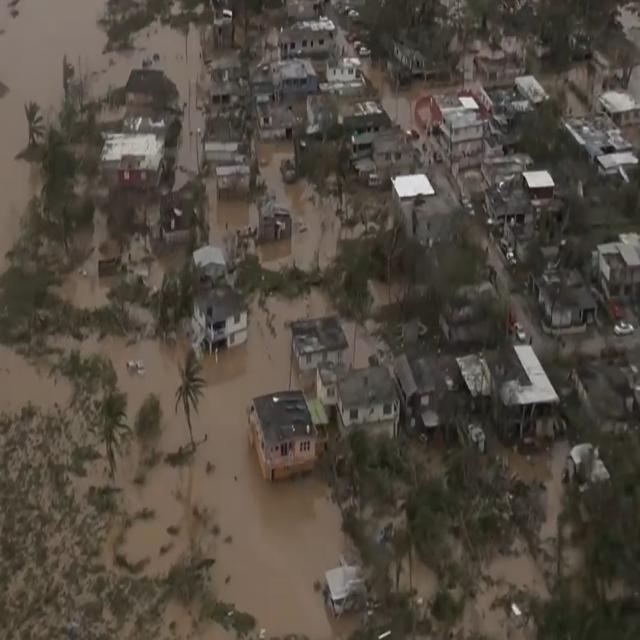flood: (0, 290, 350, 640), (0, 0, 210, 272), (454, 440, 571, 640), (477, 226, 602, 384), (57, 189, 188, 308), (259, 139, 342, 270), (364, 59, 474, 130), (200, 164, 258, 260), (542, 59, 596, 114), (411, 560, 441, 612), (344, 322, 375, 366), (368, 279, 405, 314)
house: (250, 390, 320, 481), (497, 341, 560, 442), (336, 364, 400, 442), (571, 116, 635, 184), (428, 95, 484, 168), (536, 270, 596, 334), (101, 131, 163, 188), (595, 236, 640, 314), (198, 284, 248, 353), (352, 125, 409, 184), (291, 313, 345, 368), (281, 21, 337, 62), (248, 196, 292, 240), (125, 63, 163, 109), (197, 121, 238, 162), (258, 99, 292, 142), (272, 60, 312, 94), (326, 58, 360, 96), (216, 163, 248, 190)
